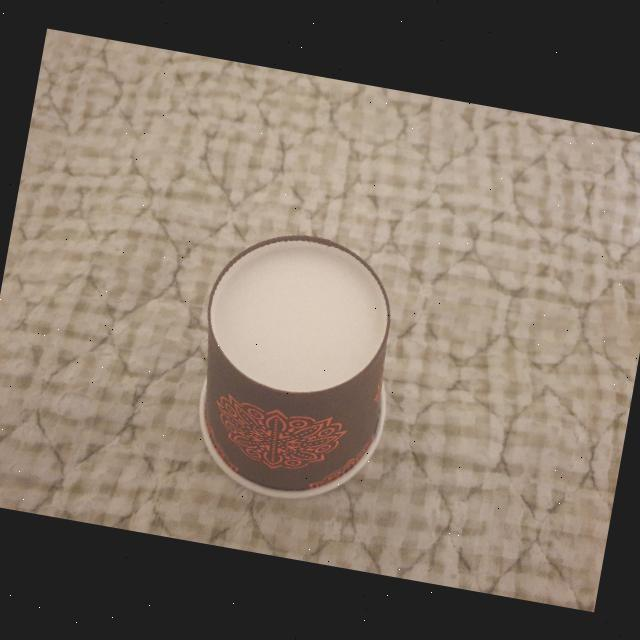trash: (164, 209, 427, 522)
